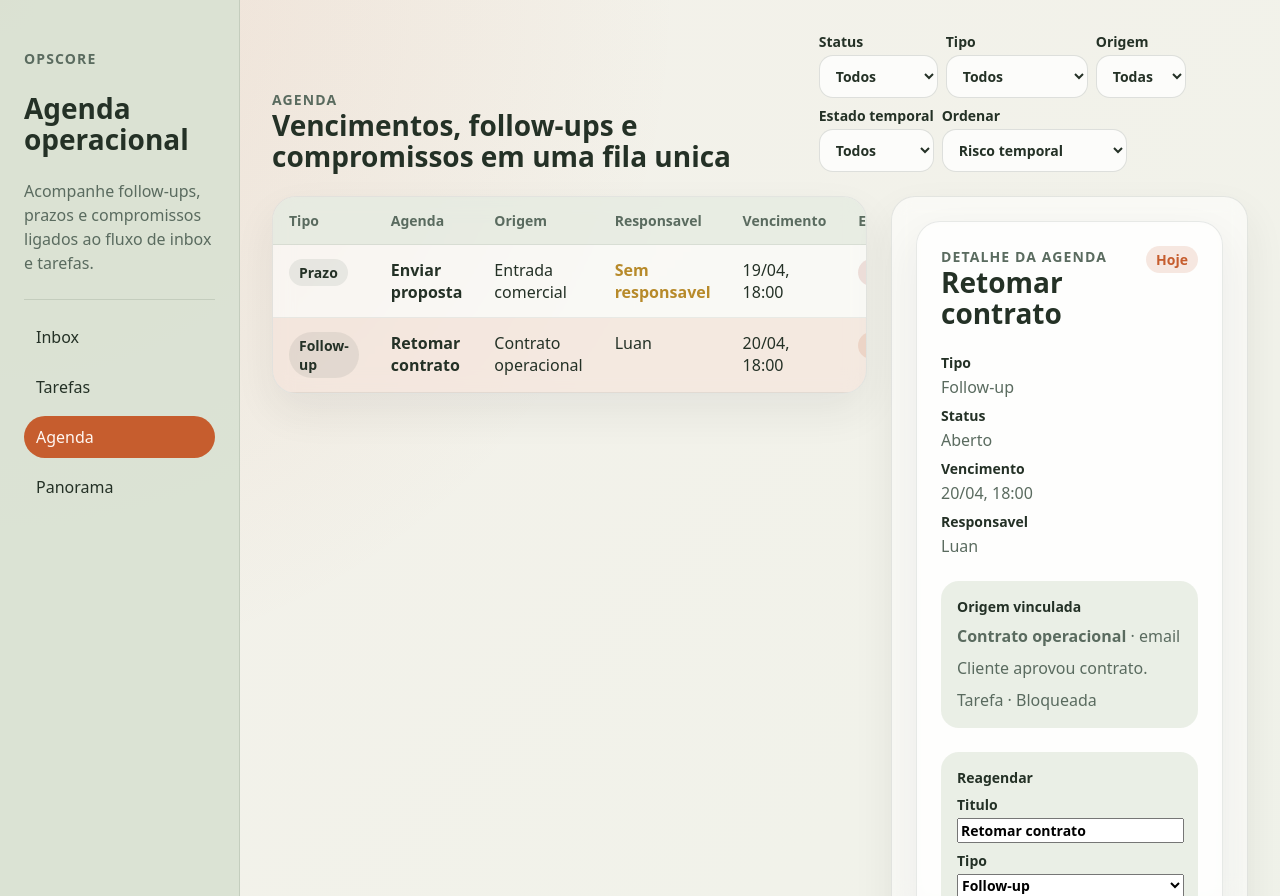
it: agenda workspace shell › selects agenda items and fetches detail
Click the text "Enviar proposta".
click(427, 281)  # box left=375, top=244, right=478, bottom=318
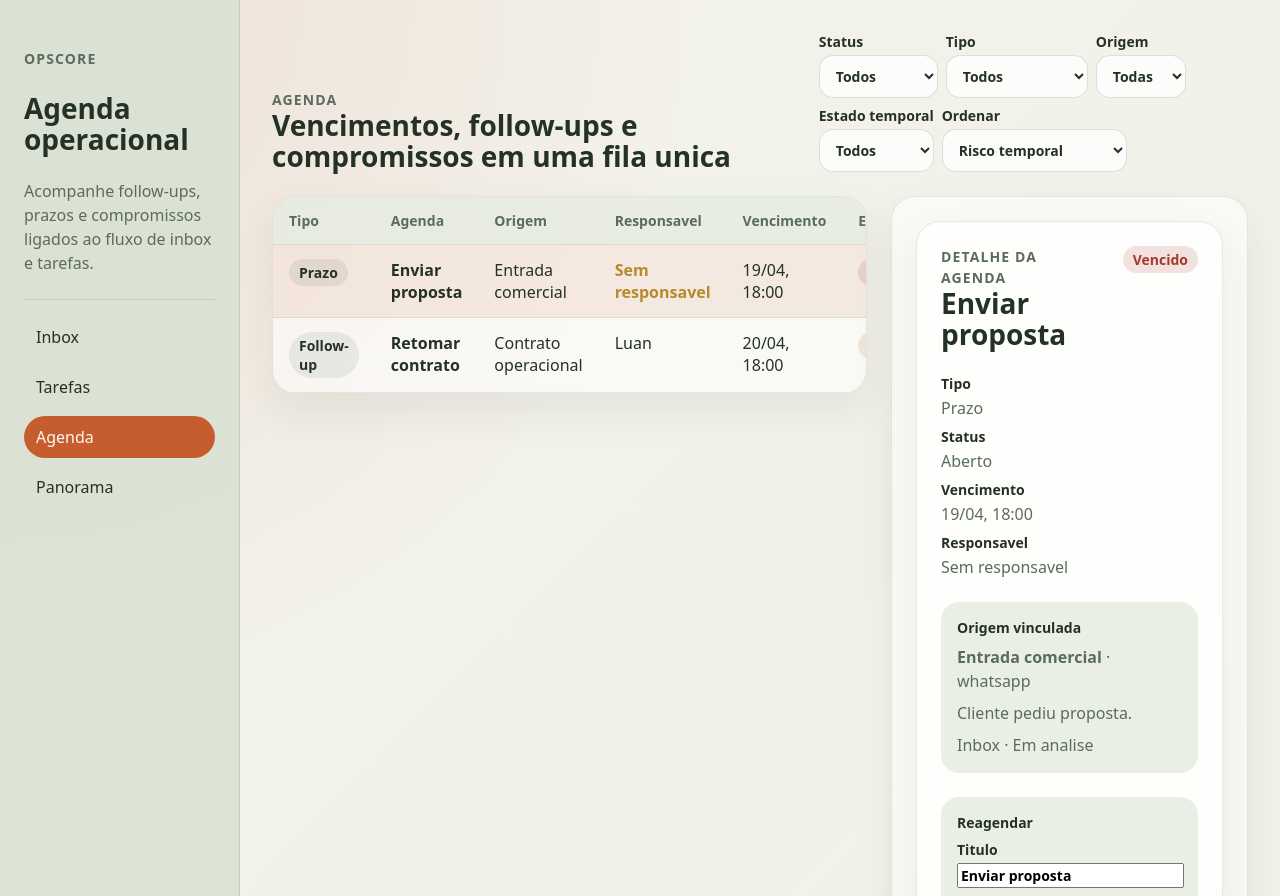
Check: the text "Cliente pediu proposta." is shown, box left=957, top=702, right=1132, bottom=724
